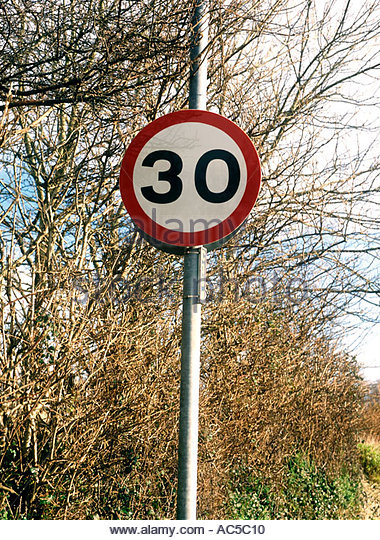Speed_limit_30km: (120, 109, 263, 247)
